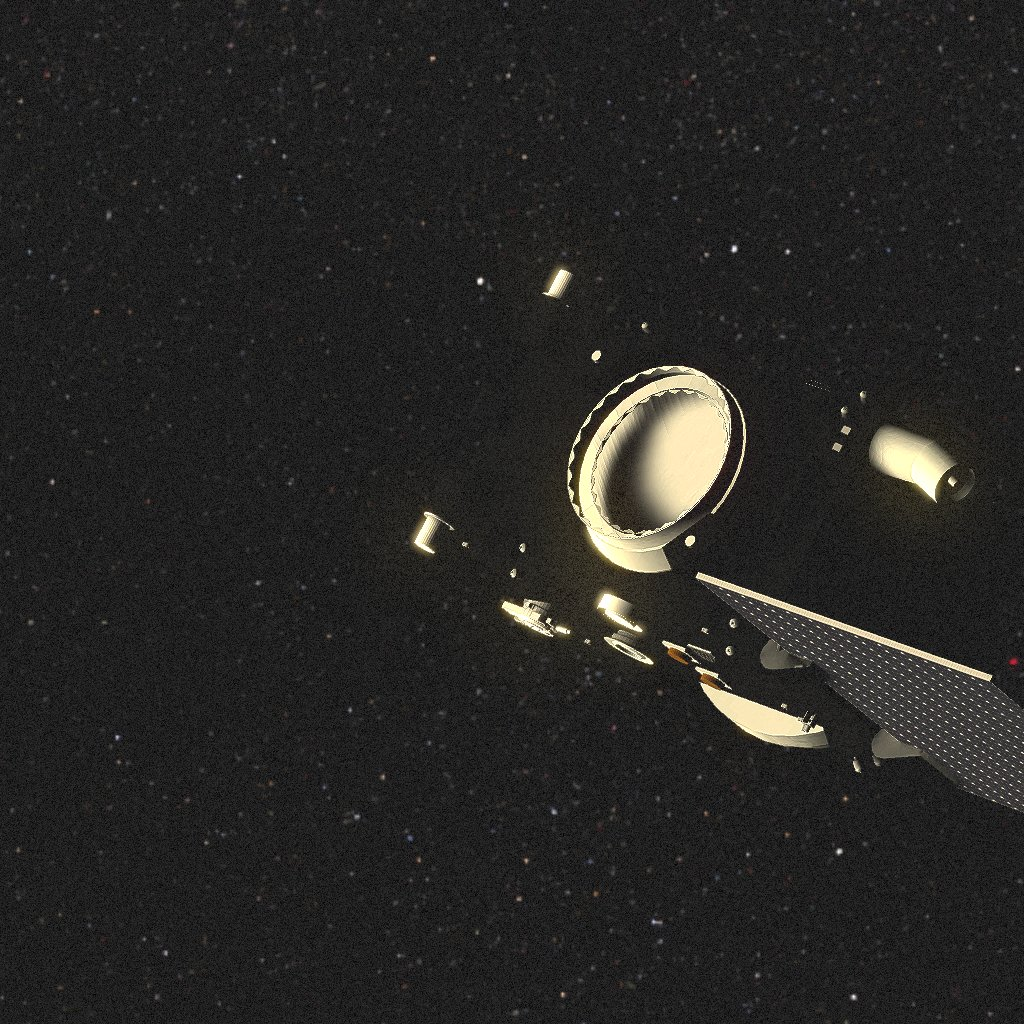proba_3_csc: (415, 270, 1024, 812)
